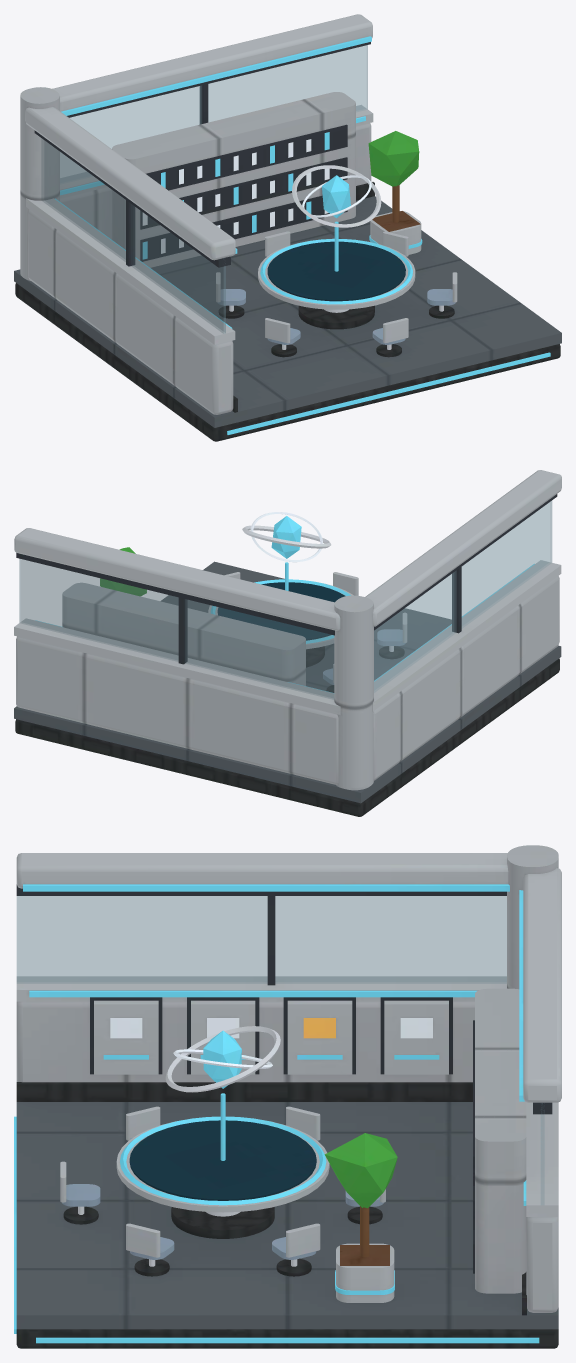
Rendered from enterprise_elite_academy.glb.
The picture shows the model from 3 angles, top to bottom: view 1: azimuth 30°, elevation 25°; view 2: azimuth 150°, elevation 25°; view 3: azimuth 270°, elevation 25°; orthographic projection. The views are drawn at different scales.
Visible parts, largest first — view 1: te_enterprise_elite_academy, move_sensor; view 2: te_enterprise_elite_academy, move_sensor; view 3: te_enterprise_elite_academy, move_sensor.
Part boxes in pixels (<box>): te_enterprise_elite_academy: <box>14,14,561,441</box>; move_sensor: <box>292,165,381,227</box>; te_enterprise_elite_academy: <box>14,470,561,816</box>; move_sensor: <box>242,512,331,562</box>; te_enterprise_elite_academy: <box>14,845,561,1348</box>; move_sensor: <box>165,1026,280,1092</box>.
Size of the model in its own units: 0.849 by 0.472 by 0.849.
Materials: 2 (1 with a texture image).
